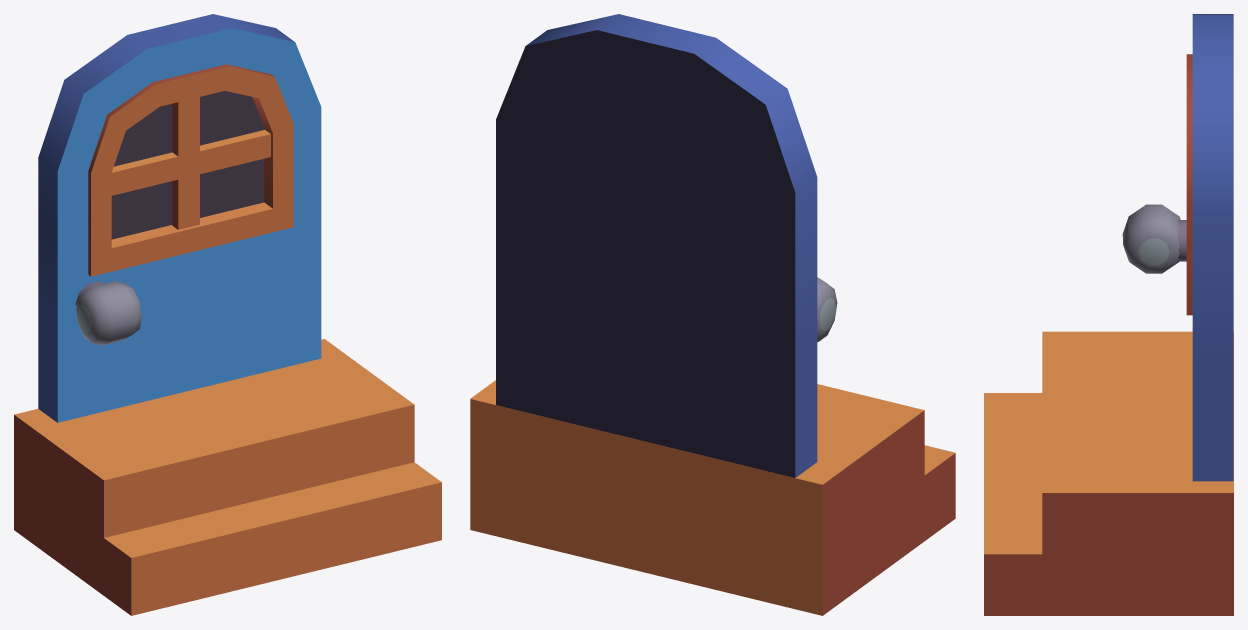
File: Door01_Blue_Wood.glb
The picture shows the model from 3 angles, left to right: view 1: azimuth 30°, elevation 25°; view 2: azimuth 150°, elevation 25°; view 3: azimuth 270°, elevation 25°; orthographic projection. The views are drawn at different scales.
Visible parts, largest first — view 1: Door01_Blue_Wood; view 2: Door01_Blue_Wood; view 3: Door01_Blue_Wood.
Part boxes in pixels (x1,y1,x2,y2): Door01_Blue_Wood: (14, 14, 441, 615); Door01_Blue_Wood: (470, 14, 955, 615); Door01_Blue_Wood: (984, 14, 1233, 615).
Size of the model in its own units: 0.9795 by 1.41 by 0.6407.
1 material, 1 textured.
